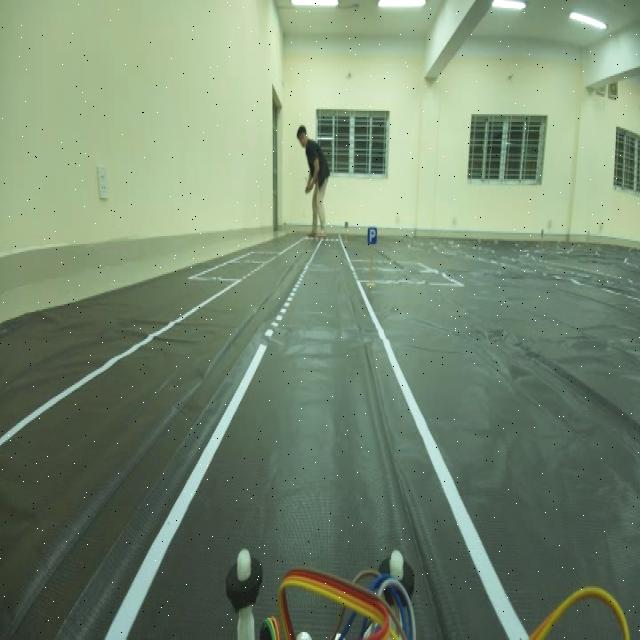parking: (366, 223, 380, 249)
